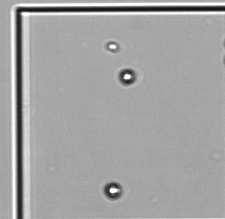Living Cell: (120, 69, 135, 85), (105, 183, 121, 198), (106, 42, 119, 52)
